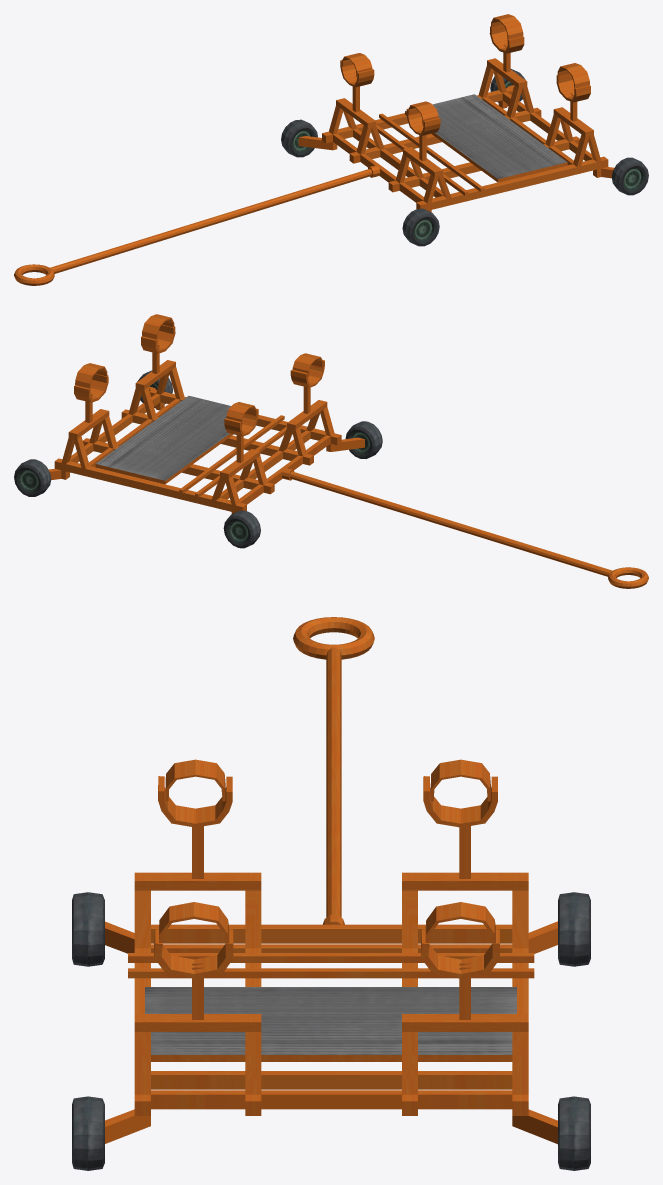
The model's file is stand_missile_cart.glb.
The picture shows the model from 3 angles, top to bottom: view 1: azimuth 30°, elevation 25°; view 2: azimuth 150°, elevation 25°; view 3: azimuth 270°, elevation 25°; orthographic projection. The views are drawn at different scales.
Visible parts, largest first — view 1: weapon; view 2: weapon; view 3: weapon.
Boxes of the visible parts, left/top/right/bottom form: weapon: left=14, top=14, right=648, bottom=285; weapon: left=14, top=314, right=648, bottom=588; weapon: left=72, top=617, right=590, bottom=1170.
Bounding box in the file's own units: 1 × 0.1926 × 0.3955.
Materials: 1 (1 with a texture image).
